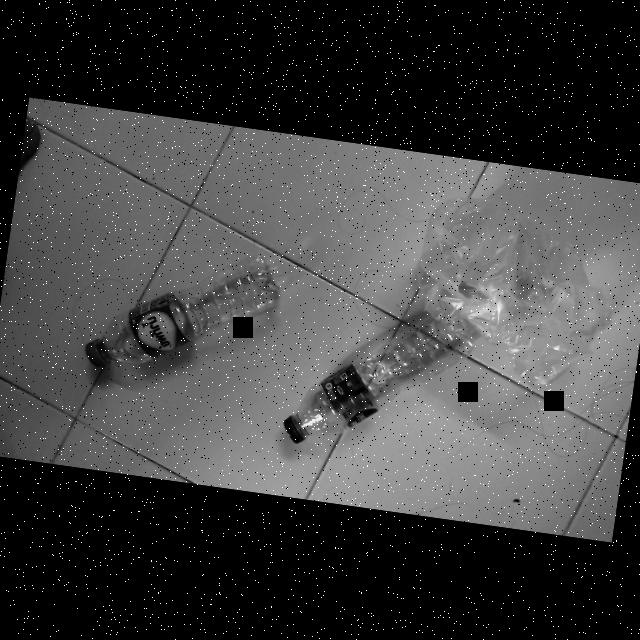plastic_bag: (398, 180, 636, 402)
plastic_bottle: (270, 290, 478, 490), (76, 230, 286, 402)
plastic_bottle_cap: (79, 336, 115, 374), (279, 412, 310, 447)
